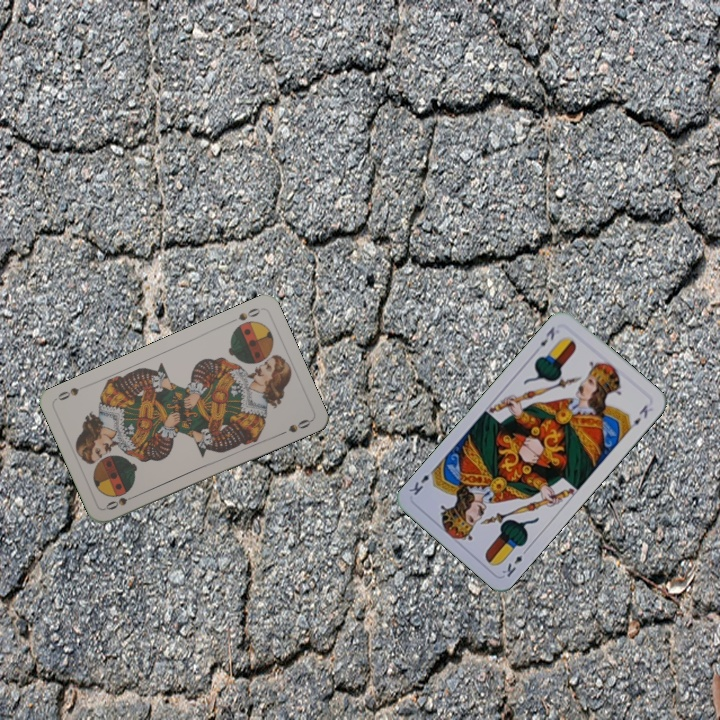EK: (498, 544, 531, 580), (536, 323, 557, 349)
SO: (101, 490, 140, 513), (225, 304, 263, 326)
